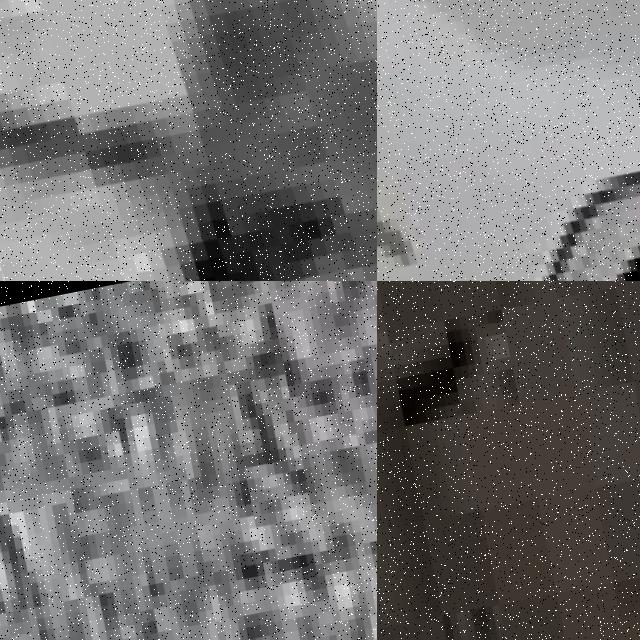drone: (0, 0, 377, 281), (377, 0, 640, 281)
